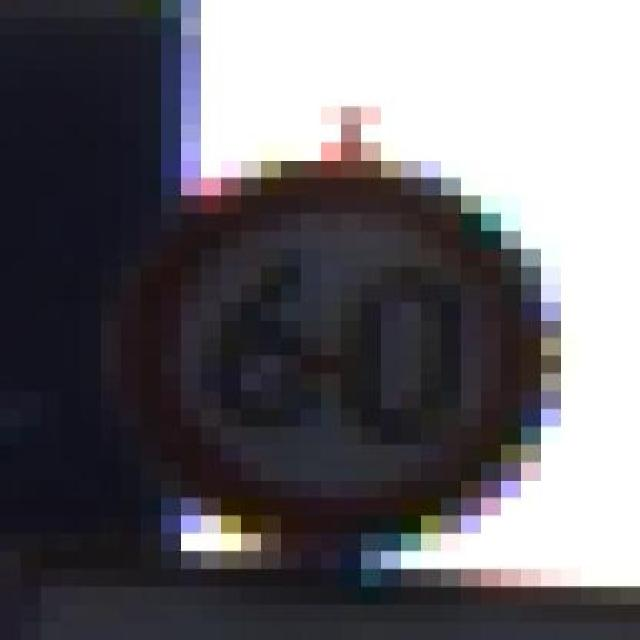forb_speed_over_60: (139, 168, 536, 532)
